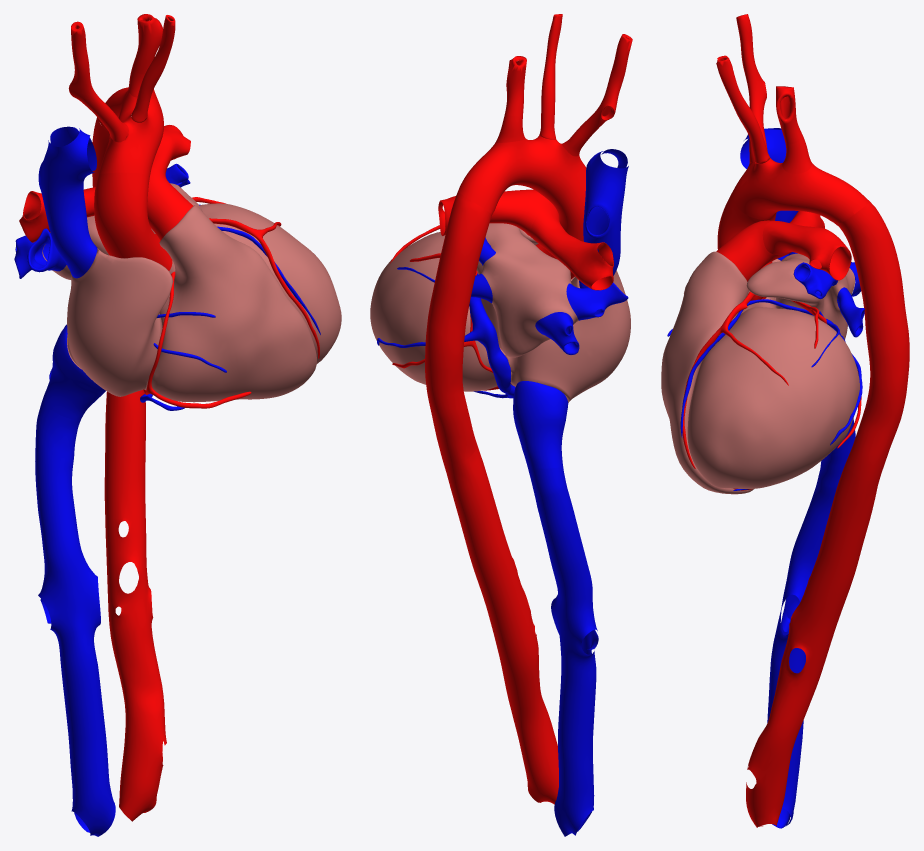
Rendered from heart.glb.
3 renders of one model, left to right at view 1: azimuth 30°, elevation 25°; view 2: azimuth 150°, elevation 25°; view 3: azimuth 270°, elevation 25°, orthographic. The views are drawn at different scales.
Parts seen in each view (by area): view 1: VH_F_interventricular_septum, VH_F_inferior_vena_cava_a, VH_F_left_anterior_descending_artery, VH_F_descending_aorta_a, VH_F_pulmonary_vein_L_sup, VH_F_left_cardiac_atrium; view 2: VH_F_descending_aorta_a, VH_F_left_anterior_descending_artery, VH_F_inferior_vena_cava_a, VH_F_left_cardiac_atrium, VH_F_pulmonary_vein_L_sup, VH_F_interventricular_septum; view 3: VH_F_left_cardiac_atrium, VH_F_descending_aorta_a, VH_F_left_anterior_descending_artery, VH_F_interventricular_septum, VH_F_inferior_vena_cava_a, VH_F_pulmonary_vein_L_sup.
Boxes of the visible parts, left/top/right/bottom form: VH_F_interventricular_septum: left=67, top=205, right=316, bottom=402; VH_F_inferior_vena_cava_a: left=35, top=324, right=115, bottom=836; VH_F_left_anterior_descending_artery: left=19, top=14, right=319, bottom=408; VH_F_descending_aorta_a: left=92, top=117, right=166, bottom=821; VH_F_pulmonary_vein_L_sup: left=14, top=126, right=320, bottom=410; VH_F_left_cardiac_atrium: left=42, top=183, right=341, bottom=363; VH_F_descending_aorta_a: left=425, top=192, right=558, bottom=804; VH_F_left_anterior_descending_artery: left=390, top=14, right=632, bottom=390; VH_F_inferior_vena_cava_a: left=513, top=381, right=598, bottom=836; VH_F_left_cardiac_atrium: left=370, top=223, right=578, bottom=391; VH_F_pulmonary_vein_L_sup: left=377, top=149, right=628, bottom=398; VH_F_interventricular_septum: left=505, top=229, right=630, bottom=402; VH_F_left_cardiac_atrium: left=687, top=253, right=859, bottom=488; VH_F_descending_aorta_a: left=746, top=202, right=909, bottom=827; VH_F_left_anterior_descending_artery: left=682, top=14, right=869, bottom=490; VH_F_interventricular_septum: left=661, top=251, right=780, bottom=494; VH_F_inferior_vena_cava_a: left=767, top=418, right=855, bottom=828; VH_F_pulmonary_vein_L_sup: left=667, top=128, right=864, bottom=490.
Bounding box in the file's own units: 0.1576 × 0.4519 × 0.1268.
